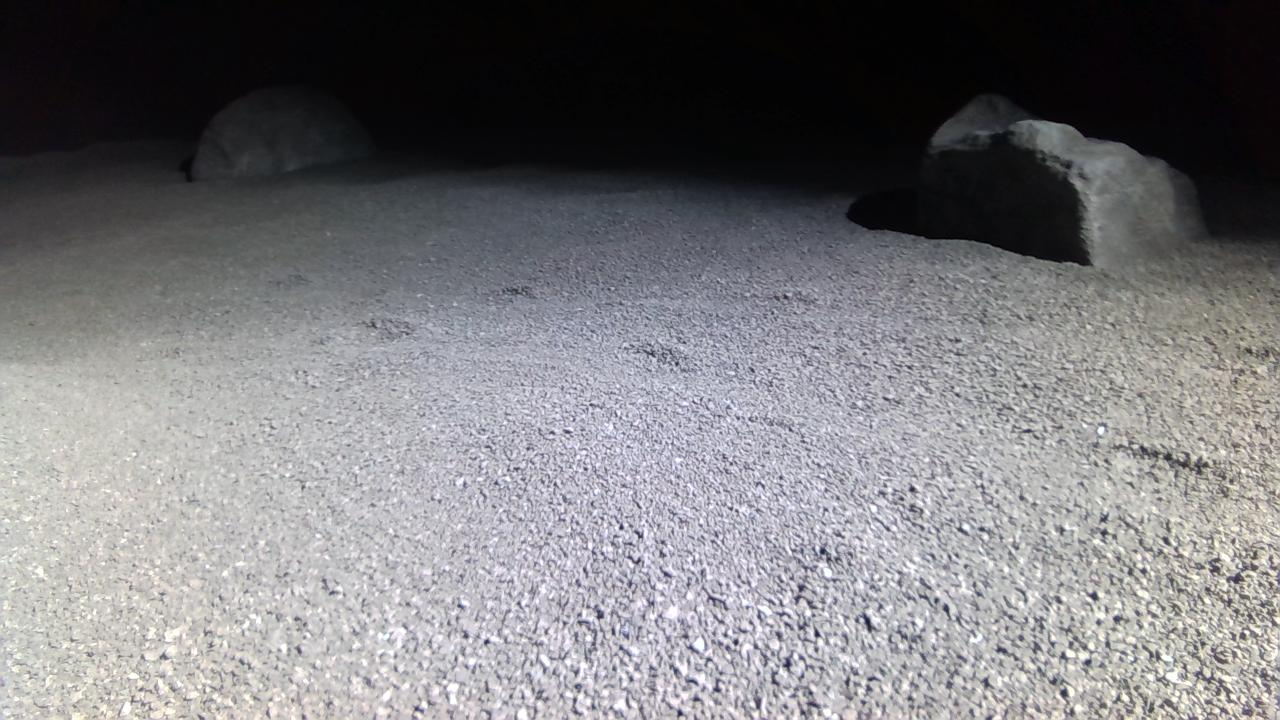rock: (920, 95, 1210, 265), (190, 84, 374, 178)
